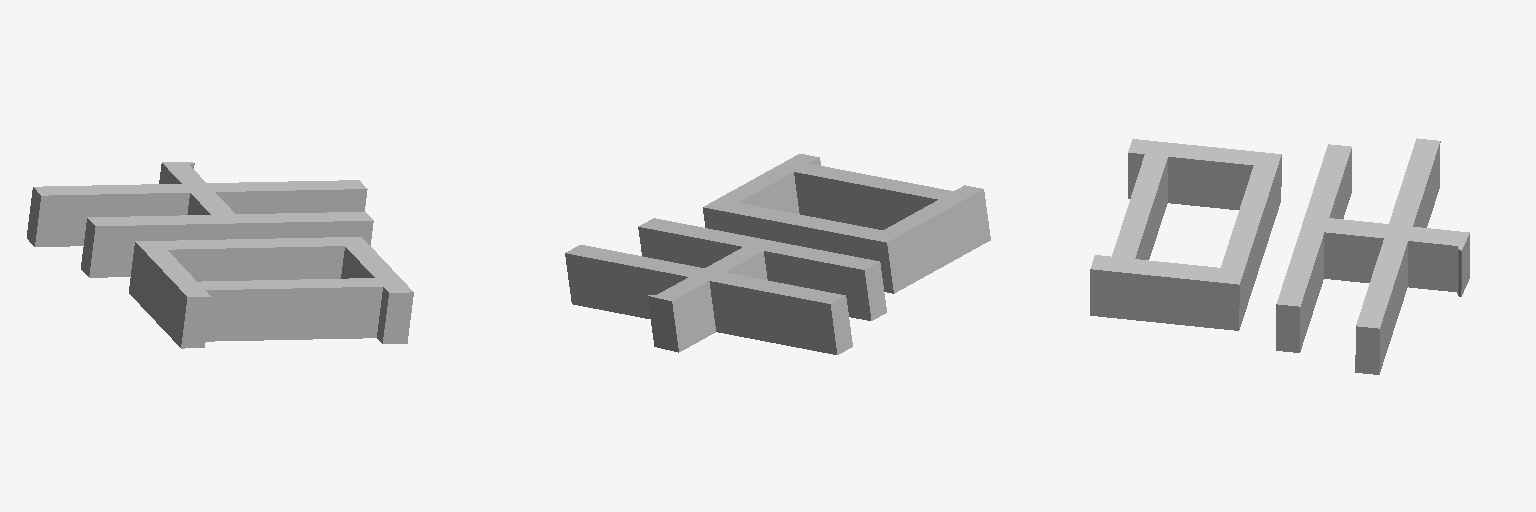
File: kiti.obj
3 renders of one model, left to right at view 1: azimuth 30°, elevation 25°; view 2: azimuth 150°, elevation 25°; view 3: azimuth 270°, elevation 25°, orthographic.
Parts seen in each view (by area): view 1: TextMesh#0; view 2: TextMesh#0; view 3: TextMesh#0.
Part boxes in pixels (bbox=[...]): TextMesh#0: bbox=[27, 162, 413, 348]; TextMesh#0: bbox=[565, 154, 990, 354]; TextMesh#0: bbox=[1090, 138, 1469, 374].
Bounding box in the file's own units: 1.28 × 0.3799 × 1.37.